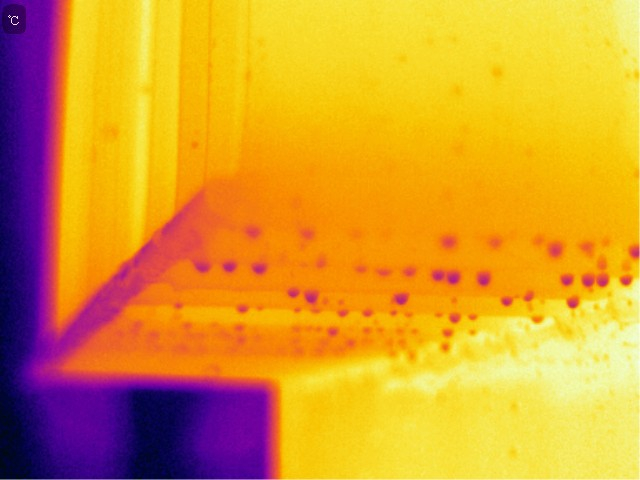Water: (579, 238, 614, 267), (385, 288, 418, 307), (470, 267, 496, 287), (554, 268, 578, 289), (594, 268, 613, 293), (190, 262, 217, 279), (222, 257, 243, 277), (562, 294, 586, 311), (439, 232, 463, 249), (495, 294, 519, 310), (399, 264, 423, 280), (547, 239, 566, 258), (303, 288, 321, 308), (251, 259, 269, 278), (581, 271, 597, 292), (446, 266, 461, 288), (374, 264, 395, 278), (616, 274, 636, 288), (438, 326, 457, 340), (434, 343, 453, 356), (530, 314, 550, 326), (429, 268, 443, 285), (522, 289, 539, 303), (627, 243, 640, 261), (232, 304, 255, 314), (448, 312, 465, 324), (336, 309, 353, 320), (361, 309, 378, 319), (285, 288, 297, 302)
